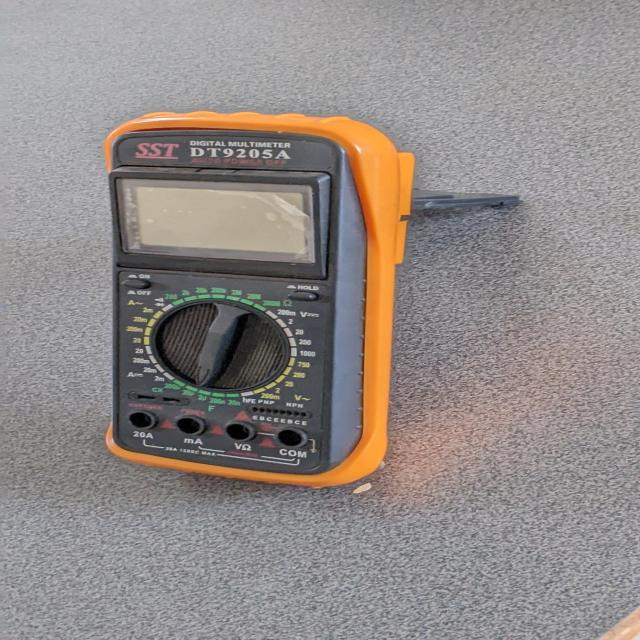Digital Multimeter: (79, 110, 425, 487)
